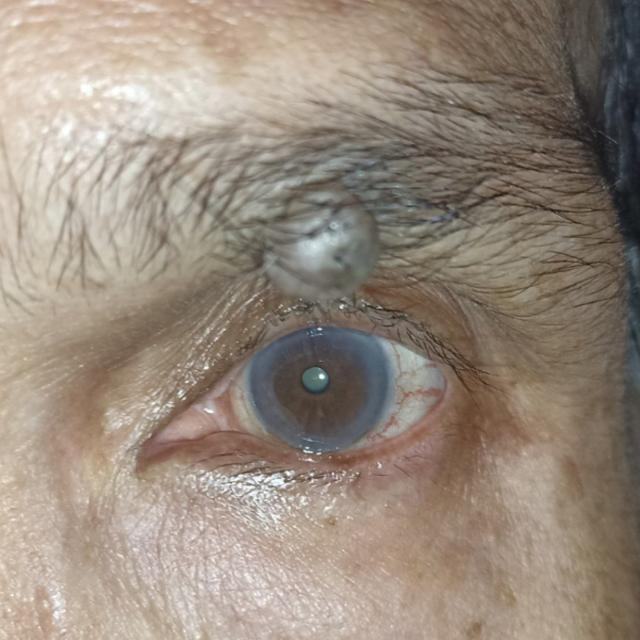Cataract: (248, 310, 389, 459)
